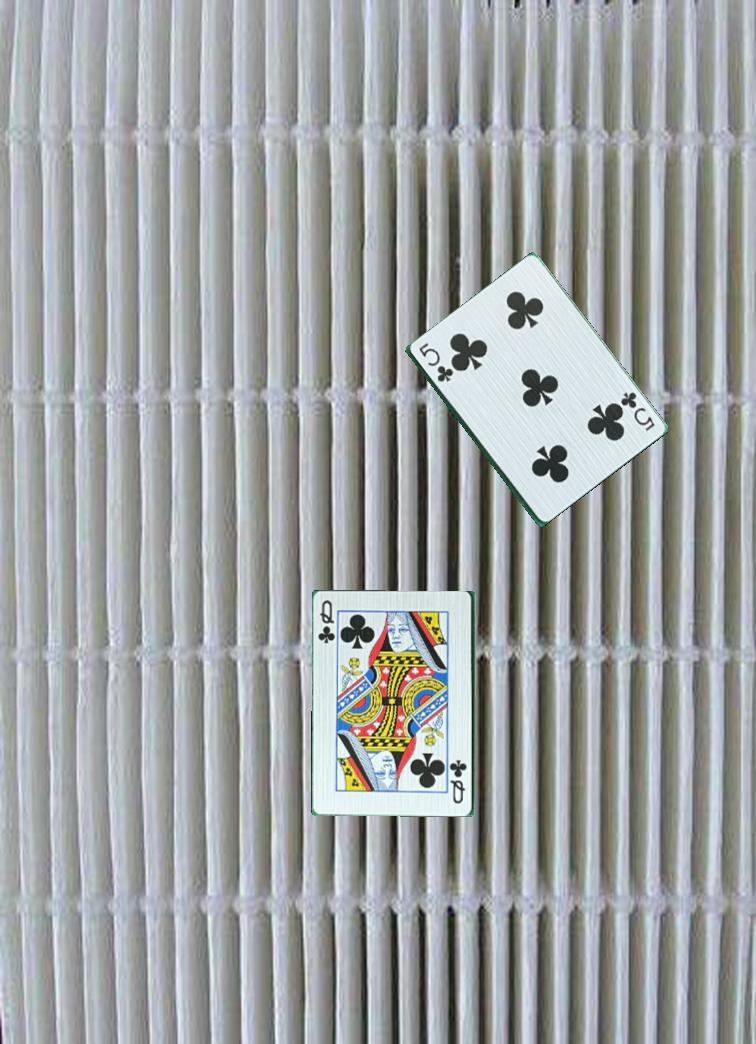5c: (617, 385, 658, 434), (416, 337, 456, 385)
qc: (315, 597, 338, 647), (449, 757, 470, 807)
